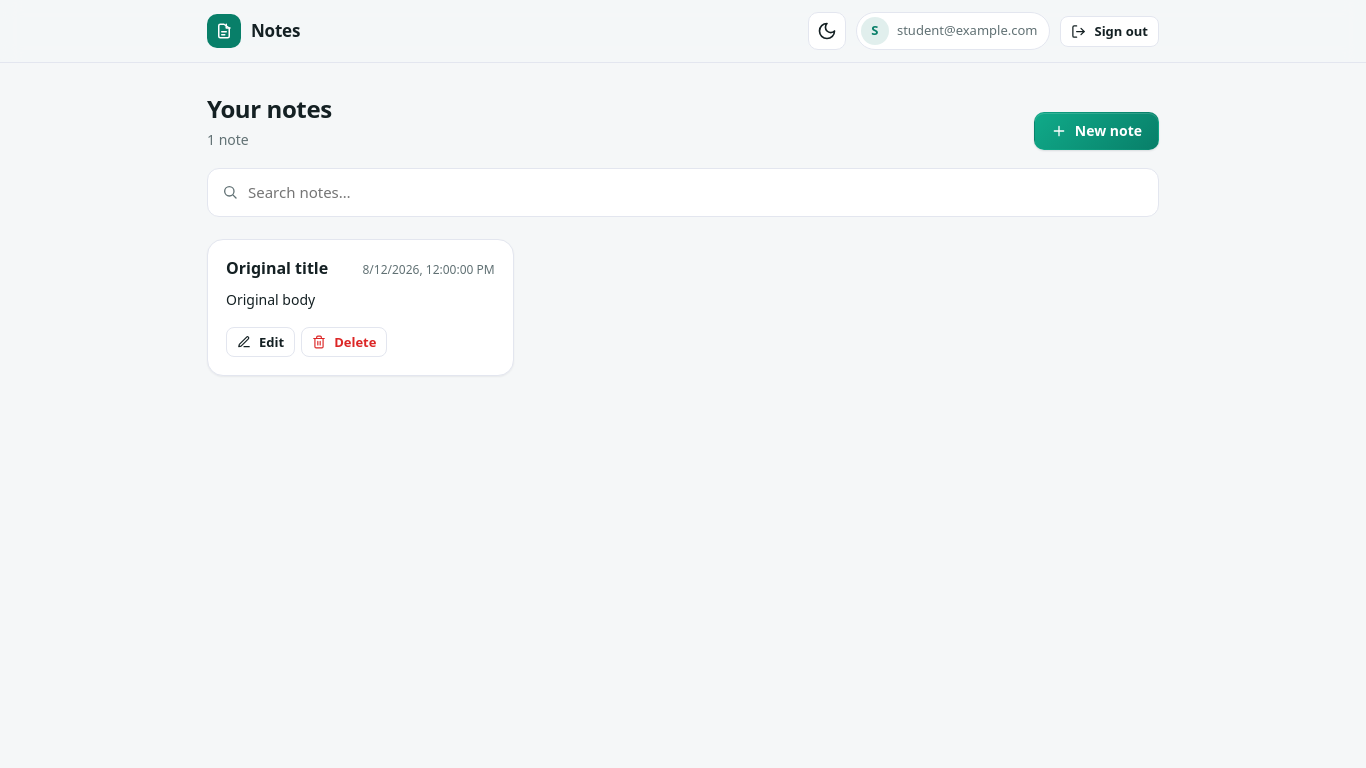
Test: AppShell state transitions › edits a pre-filled note and replaces it without a list refetch
The width and height of the screenshot is (1366, 768).
Expected: the heading "Original title" is shown, [226, 258, 328, 279]
Click the button "Edit" at (261,342), box [226, 328, 295, 358]
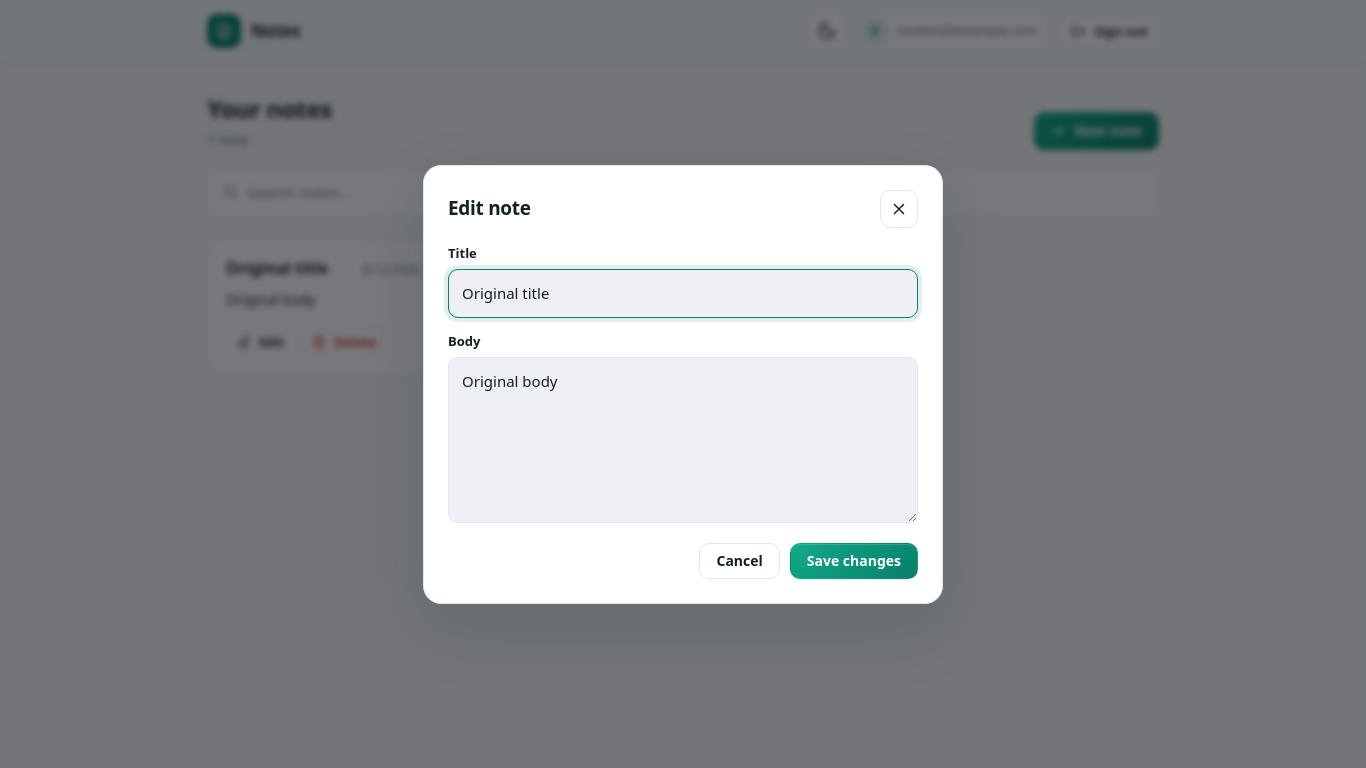
Result: the field labelled "Title" holds "Original title"
Replace the text in the field labelled "Title" with "Updated title" at (683,293), box [448, 269, 918, 318]
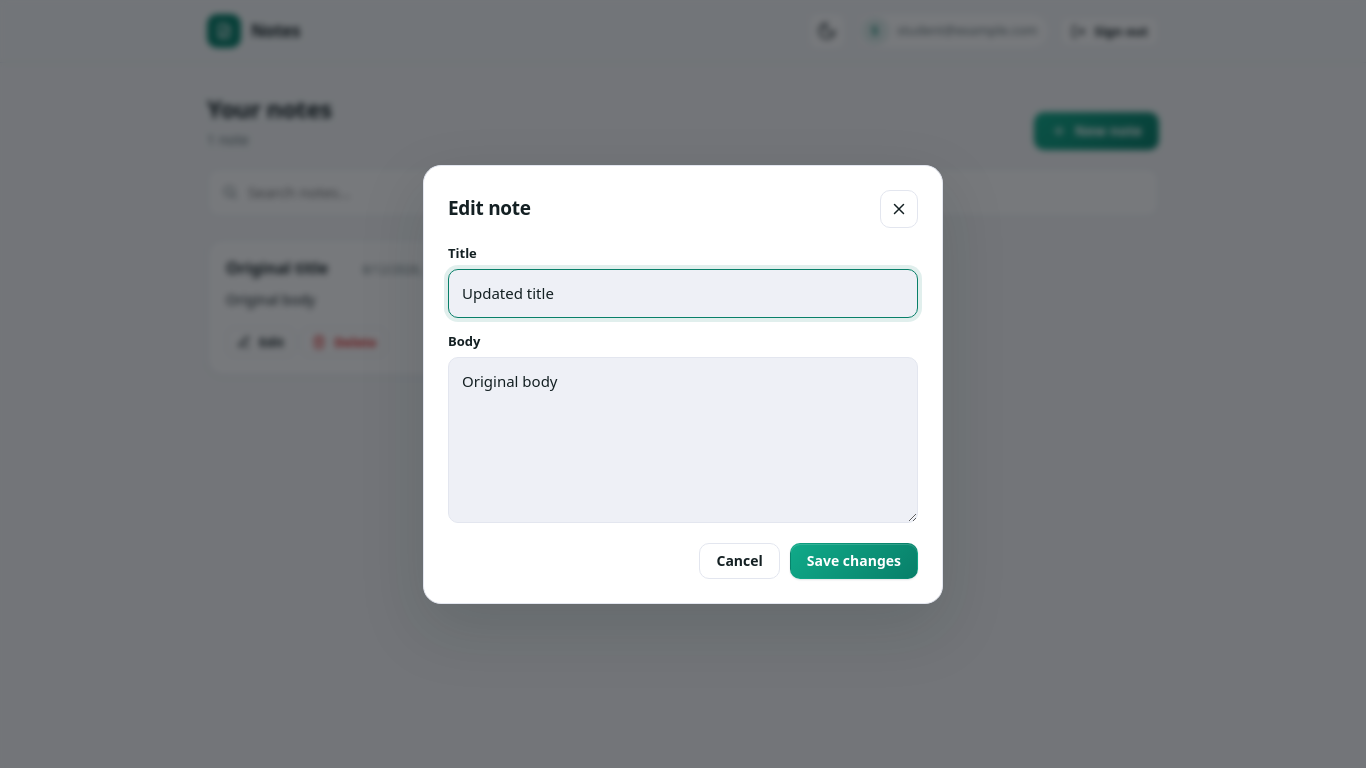
Click the button "Save changes" at (854,560), box [790, 542, 918, 578]
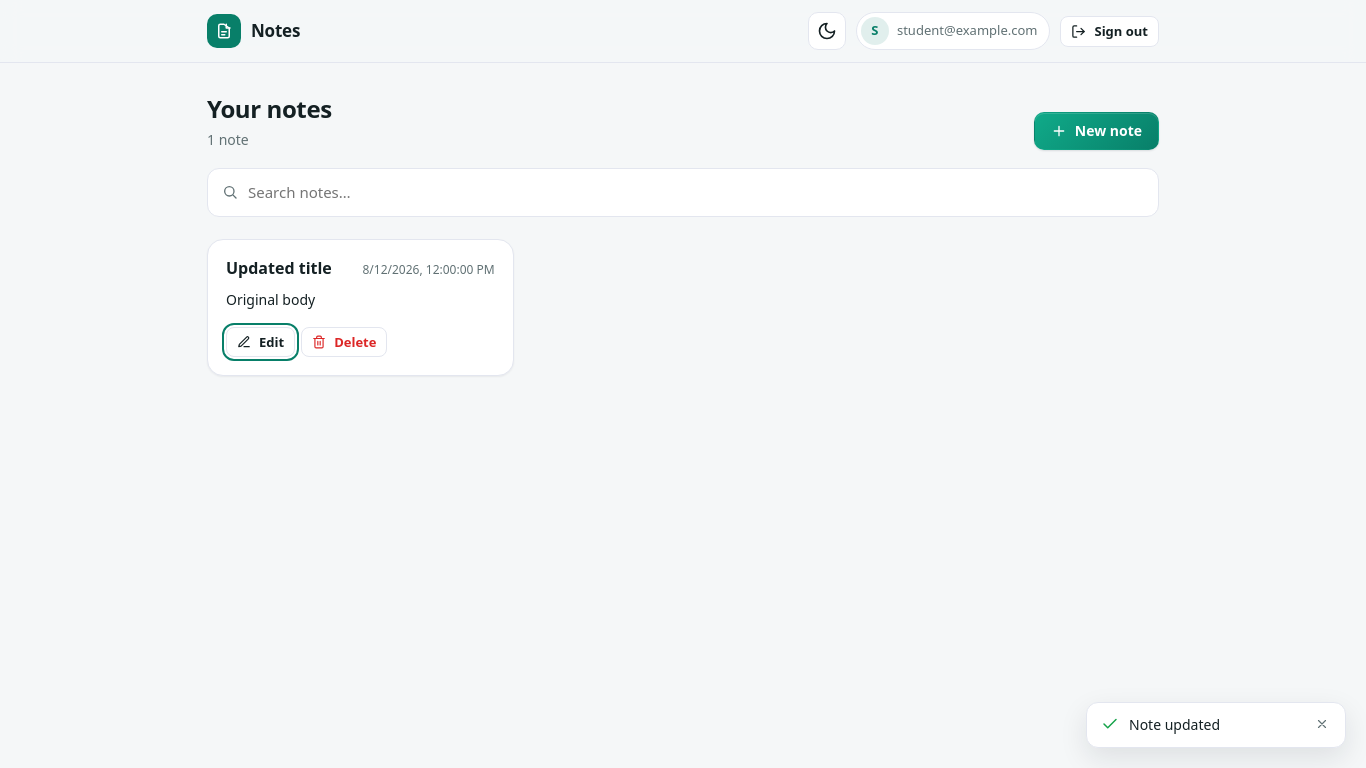
Result: the heading "Updated title" is shown at [226, 258, 332, 279]
